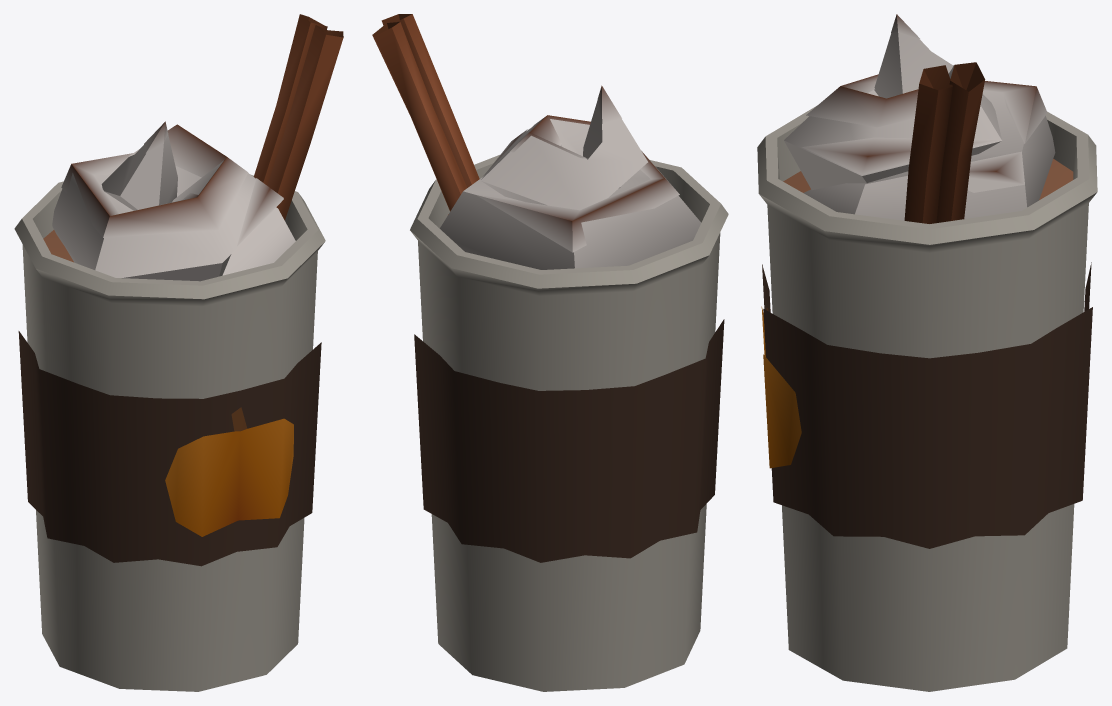
The model's file is grenade_pumpkinSpice.glb.
3 views of the same model, side by side, from view 1: azimuth 30°, elevation 25°; view 2: azimuth 150°, elevation 25°; view 3: azimuth 270°, elevation 25° (orthographic). The views are drawn at different scales.
Parts seen in each view (by area): view 1: grenade_pumpkinSpice; view 2: grenade_pumpkinSpice; view 3: grenade_pumpkinSpice.
Part boxes in pixels (x1=…): grenade_pumpkinSpice: x1=14, y1=14, x2=343, y2=691; grenade_pumpkinSpice: x1=372, y1=14, x2=728, y2=691; grenade_pumpkinSpice: x1=757, y1=14, x2=1097, y2=691.
Size of the model in its own units: 0.0984 by 0.1718 by 0.0812.
